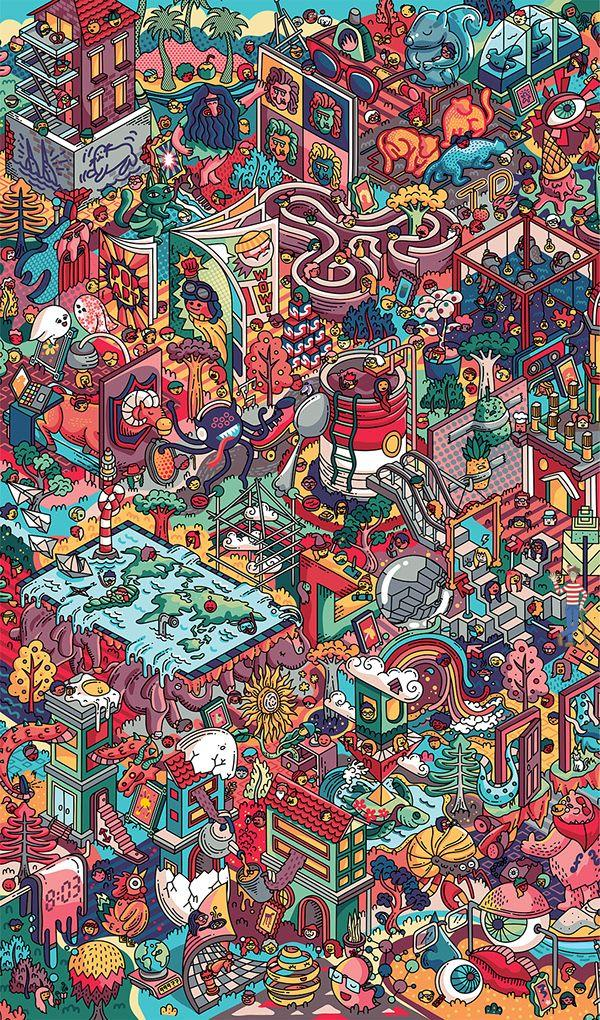waldo: (548, 564, 588, 647)
